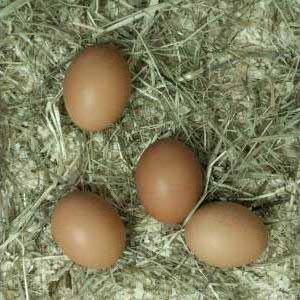egg: (63, 44, 133, 132), (135, 139, 204, 226), (50, 190, 126, 268), (183, 201, 268, 268)
